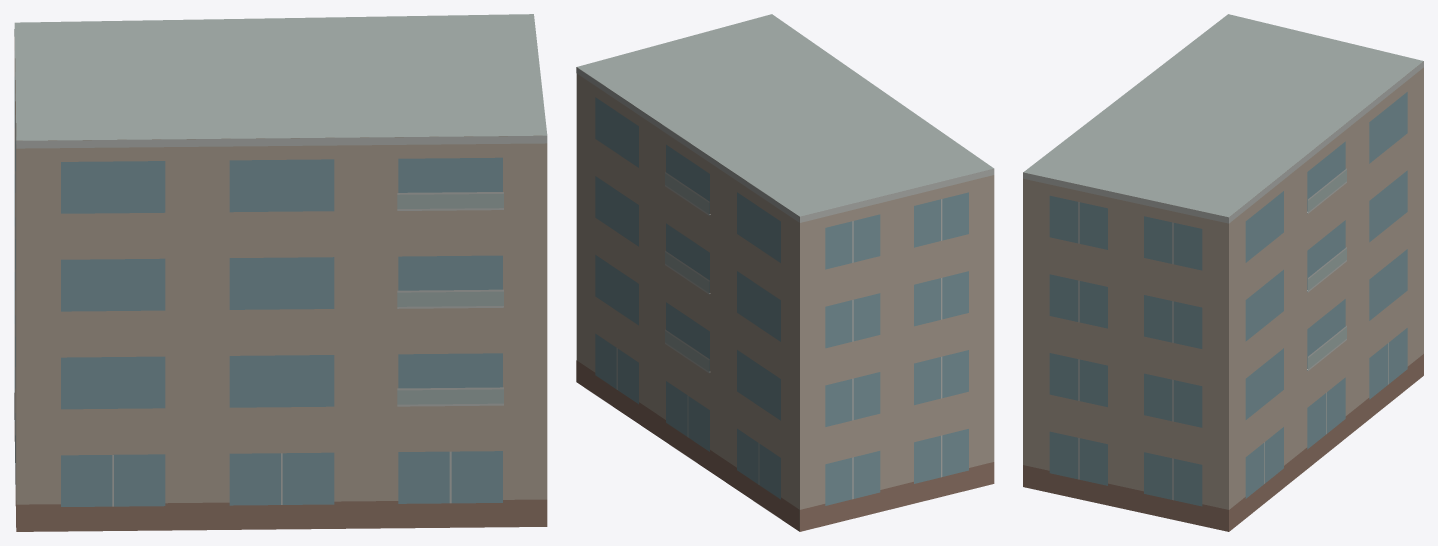
Rendered from survey-upis-32660821.glb.
3 views of the same model, side by side, from view 1: azimuth 30°, elevation 25°; view 2: azimuth 150°, elevation 25°; view 3: azimuth 270°, elevation 25° (orthographic). The views are drawn at different scales.
Visible parts, largest first — view 1: survey-upis-32660821.tmp; view 2: survey-upis-32660821.tmp; view 3: survey-upis-32660821.tmp.
Boxes of the visible parts, x1=… form: survey-upis-32660821.tmp: x1=14, y1=14, x2=547, y2=531; survey-upis-32660821.tmp: x1=576, y1=14, x2=994, y2=531; survey-upis-32660821.tmp: x1=1023, y1=14, x2=1423, y2=531.
Size of the model in its own units: 16.92 by 12.2 by 14.09.
